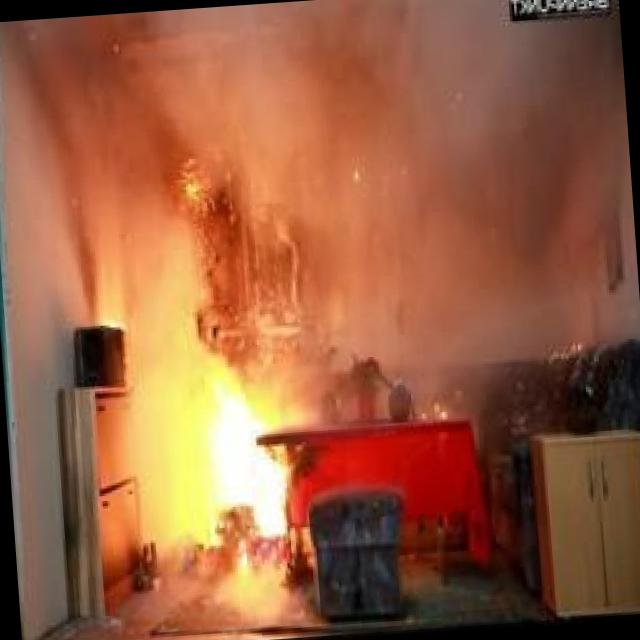fire: (151, 348, 340, 565)
